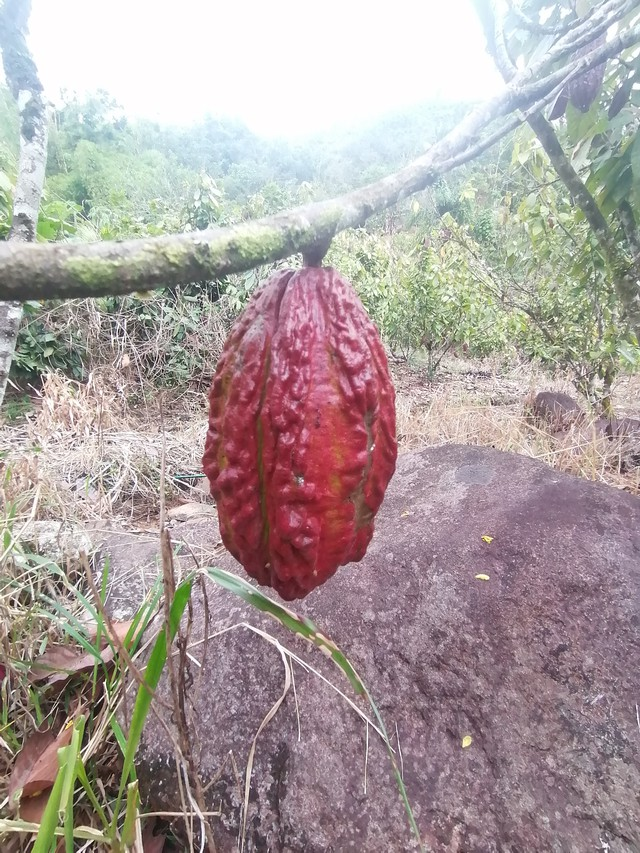Health: (190, 249, 412, 607)
